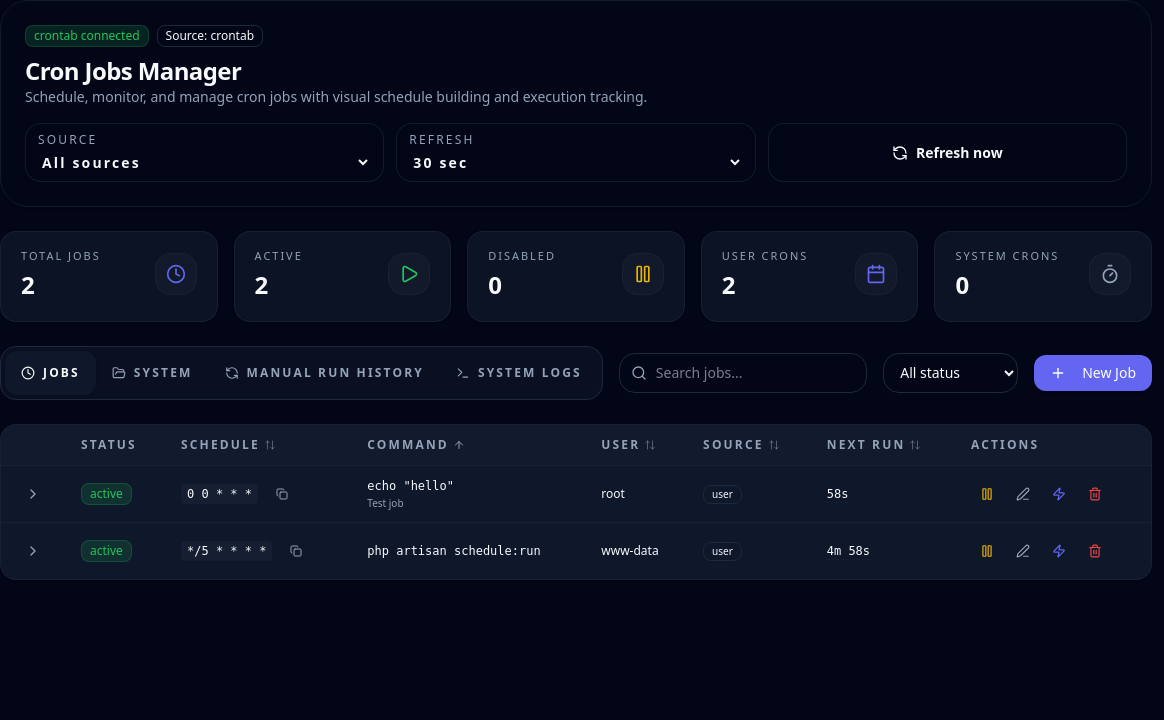
Scenario: CronsPage › filters by status
Expected: the text "echo \"hello\"" is shown, [367,478,454,492]
Select "Disabled only" in the 3rd dropdown at (951, 372), box [883,352,1018,392]
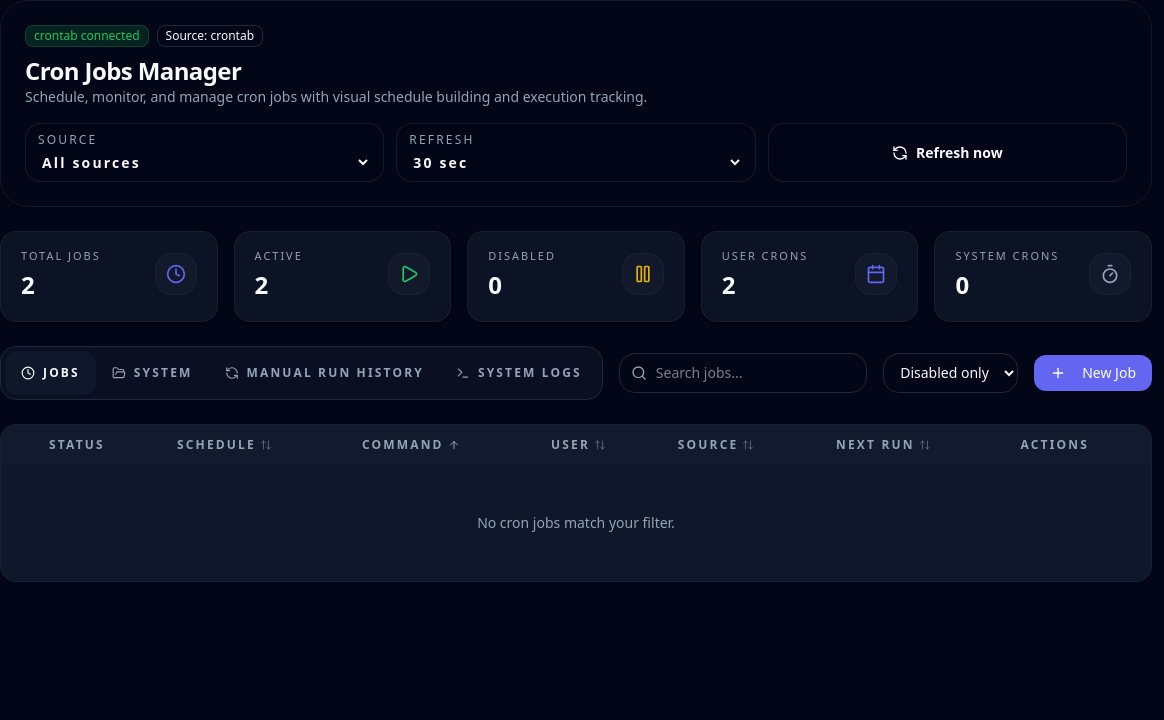
Expected: the text "echo \"hello\"" is gone
